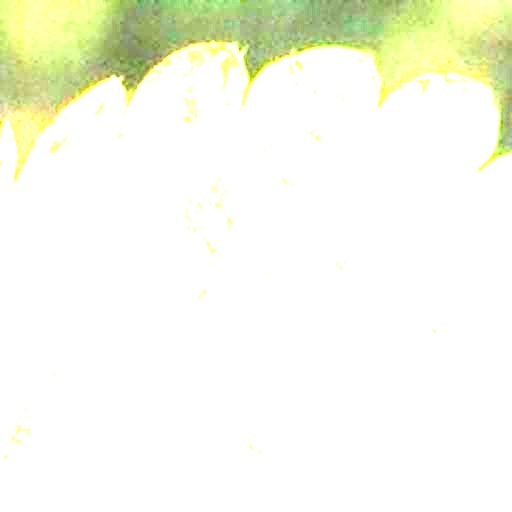Angular Leafspot: (0, 42, 511, 511)
